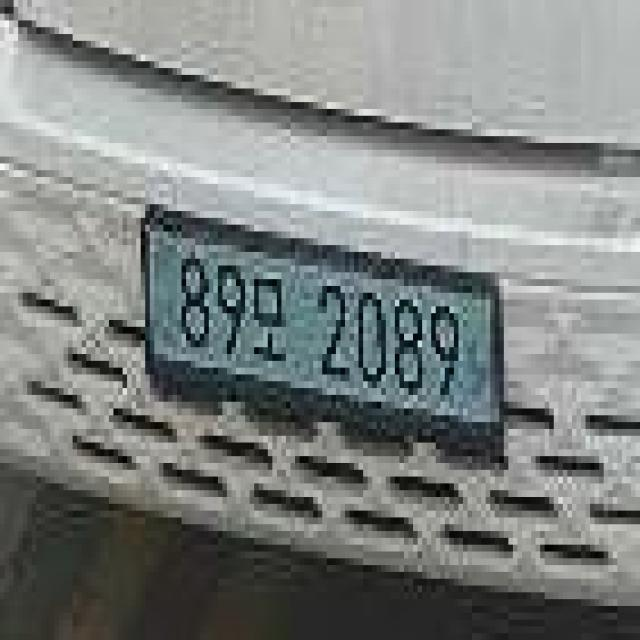EV_plate: (138, 195, 506, 471)
